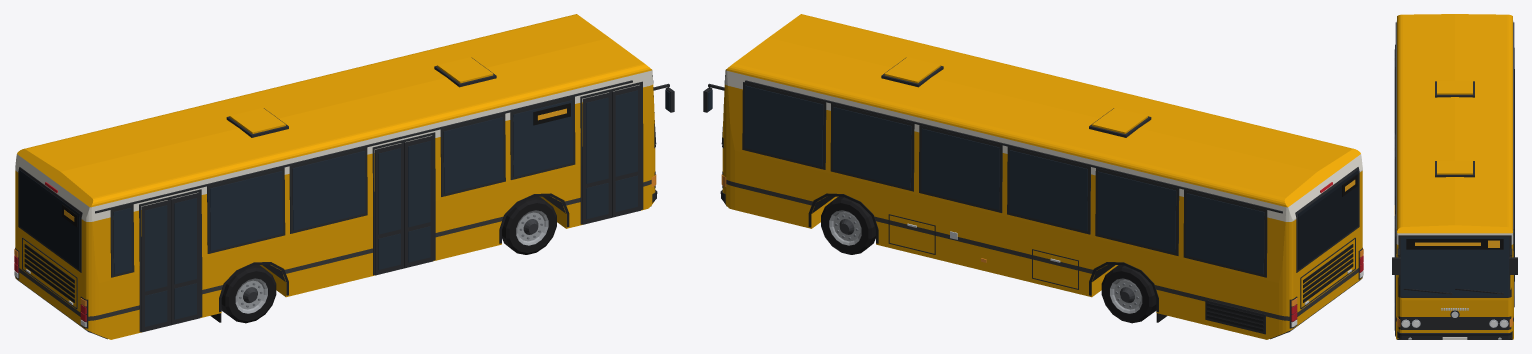
The model's file is bus.glb.
The picture shows the model from 3 angles, left to right: view 1: azimuth 30°, elevation 25°; view 2: azimuth 150°, elevation 25°; view 3: azimuth 270°, elevation 25°; orthographic projection. The views are drawn at different scales.
Visible parts, largest first — view 1: body, glass (×7), frame (×7), white, glassDark, rubber (×2), pod, rub, rim (×2), grille, archTrim, sign; view 2: body, glass, frame, white, glassDark, rubber (×2), rub, grille, pod, rim (×2), archTrim; view 3: body, glass, frame, pod, white, sign, bumper, rubber, signText, chrome, lampHead.
Part boxes in pixels (<box>): body: <box>15,14,655,339</box>; glass (×7): <box>113,90,670,326</box>; frame (×7): <box>15,57,674,332</box>; white: <box>15,70,652,221</box>; glassDark: <box>19,170,80,269</box>; rubber (×2): <box>38,191,657,332</box>; pod: <box>230,57,493,133</box>; rub: <box>19,180,651,320</box>; rim (×2): <box>235,210,548,313</box>; grille: <box>24,244,74,302</box>; archTrim: <box>219,193,569,312</box>; sign: <box>62,103,570,226</box>; body: <box>722,14,1362,339</box>; glass: <box>707,85,1264,274</box>; frame: <box>703,57,1362,334</box>; white: <box>725,70,1362,221</box>; glassDark: <box>1297,170,1358,269</box>; rubber (×2): <box>720,191,1339,332</box>; rub: <box>726,180,1358,320</box>; grille: <box>1206,244,1353,331</box>; pod: <box>884,57,1147,133</box>; rim (×2): <box>829,210,1142,313</box>; archTrim: <box>808,193,1158,312</box>; body: <box>1396,14,1513,339</box>; glass: <box>1395,48,1514,296</box>; frame: <box>1392,22,1517,339</box>; pod: <box>1437,80,1472,174</box>; white: <box>1396,21,1513,244</box>; sign: <box>1395,196,1503,249</box>; bumper: <box>1397,331,1512,339</box>; rubber: <box>1398,288,1511,335</box>; signText: <box>1394,205,1499,247</box>; chrome: <box>1401,308,1508,327</box>; lampHead: <box>1402,321,1507,339</box>.
Size of the model in its own units: 11.29 by 3.07 by 2.66.
